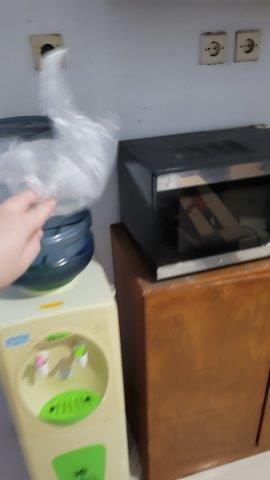plastik: (1, 52, 121, 214)
